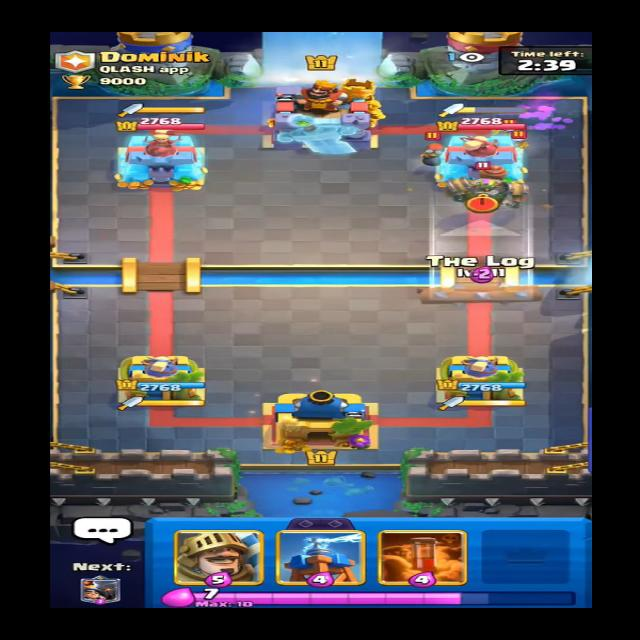bomber: (405, 130, 455, 170)
goblin-machine: (439, 160, 539, 211)
skeleton: (501, 130, 531, 151)
